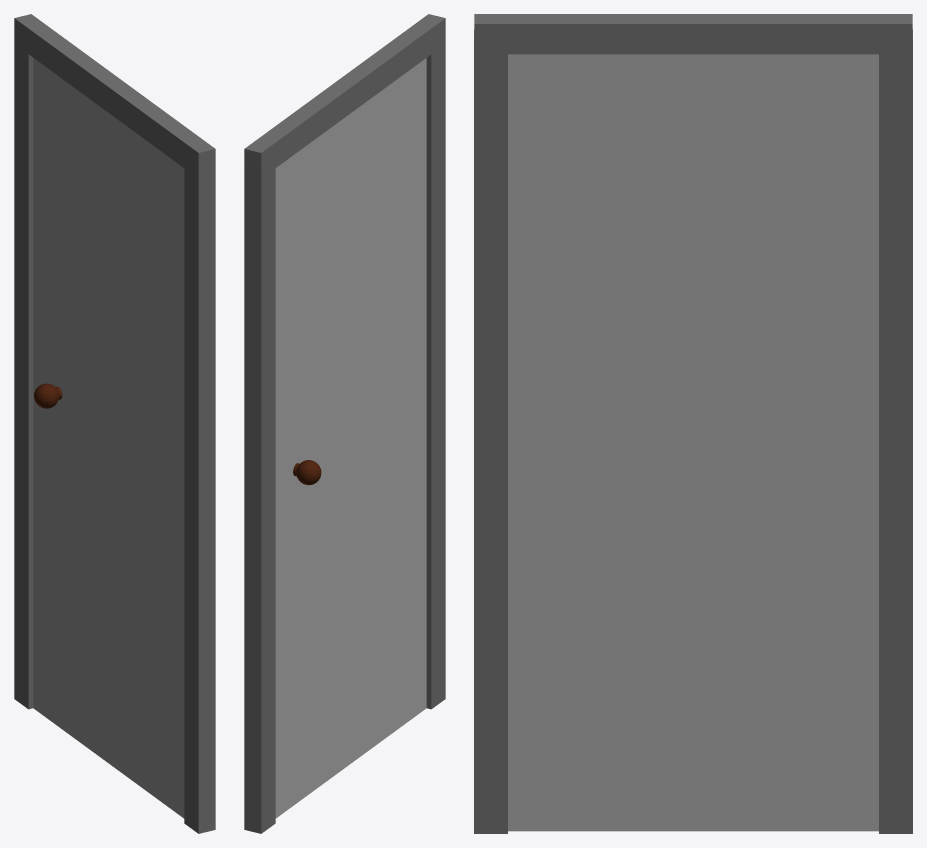
File: Door.fbx
3 renders of one model, left to right at view 1: azimuth 30°, elevation 25°; view 2: azimuth 150°, elevation 25°; view 3: azimuth 270°, elevation 25°, orthographic. The views are drawn at different scales.
Parts seen in each view (by area): view 1: Door; view 2: Door; view 3: Door.
Part boxes in pixels (left/top/right/bottom): Door: left=14, top=14, right=215, bottom=833; Door: left=244, top=14, right=445, bottom=833; Door: left=474, top=14, right=912, bottom=833.
Bounding box in the file's own units: 33.38 × 612 × 300.
